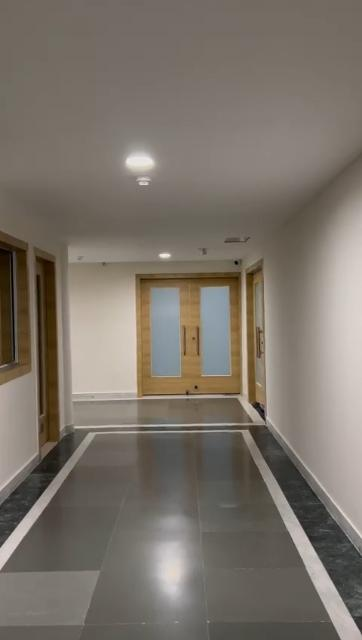door: (135, 276, 243, 394), (34, 244, 58, 446), (248, 268, 266, 404)
floor: (0, 397, 362, 640)
wall: (264, 161, 362, 518), (66, 264, 134, 392), (0, 372, 32, 483), (1, 216, 66, 238)
